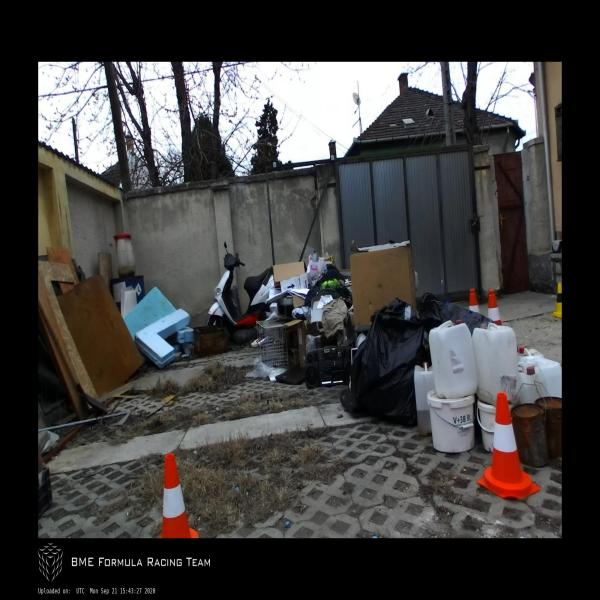large_orange_cone: (487, 290, 502, 326), (468, 287, 479, 313)
orange_cone: (476, 392, 541, 501), (158, 452, 199, 538)
yellow_cone: (552, 282, 562, 318)
